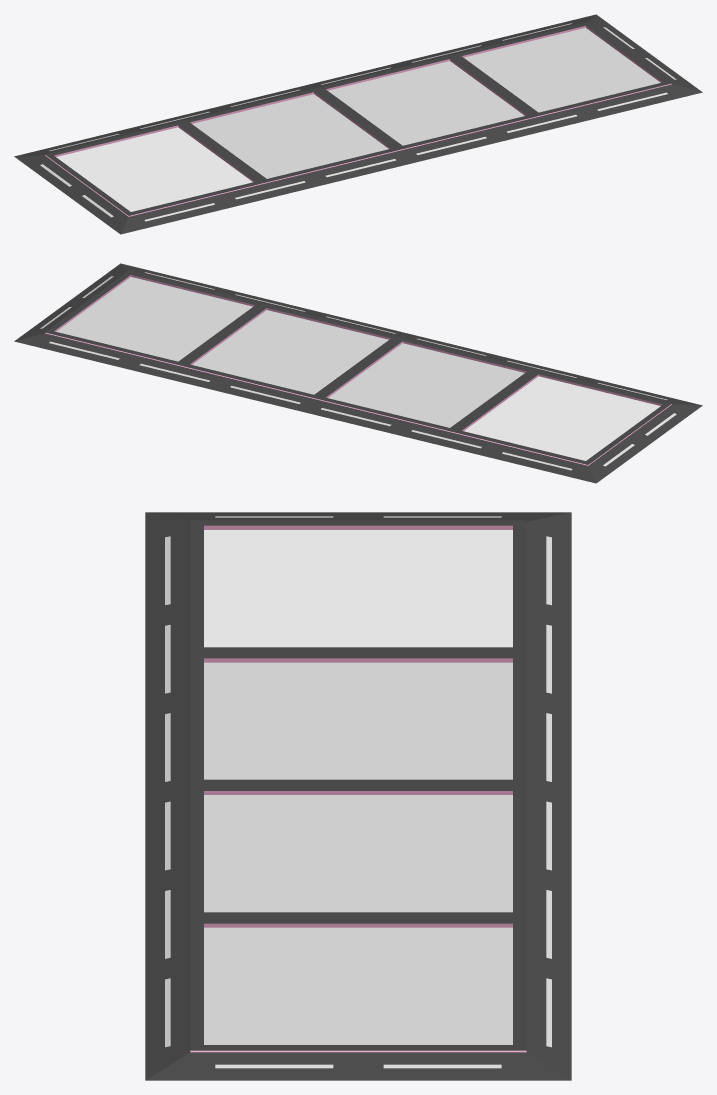
Rendered from PH_mesh_Race_CheckPoint.fbx.
The picture shows the model from 3 angles, top to bottom: view 1: azimuth 30°, elevation 25°; view 2: azimuth 150°, elevation 25°; view 3: azimuth 270°, elevation 25°; orthographic projection. The views are drawn at different scales.
Parts seen in each view (by area): view 1: mesh_Checkpoint; view 2: mesh_Checkpoint; view 3: mesh_Checkpoint.
Part boxes in pixels (left/top/right/bottom): mesh_Checkpoint: left=14, top=14, right=702, bottom=234; mesh_Checkpoint: left=14, top=263, right=702, bottom=483; mesh_Checkpoint: left=145, top=512, right=571, bottom=1080.
Bounding box in the file's own units: 6.5 × 0.059 × 2.06.
